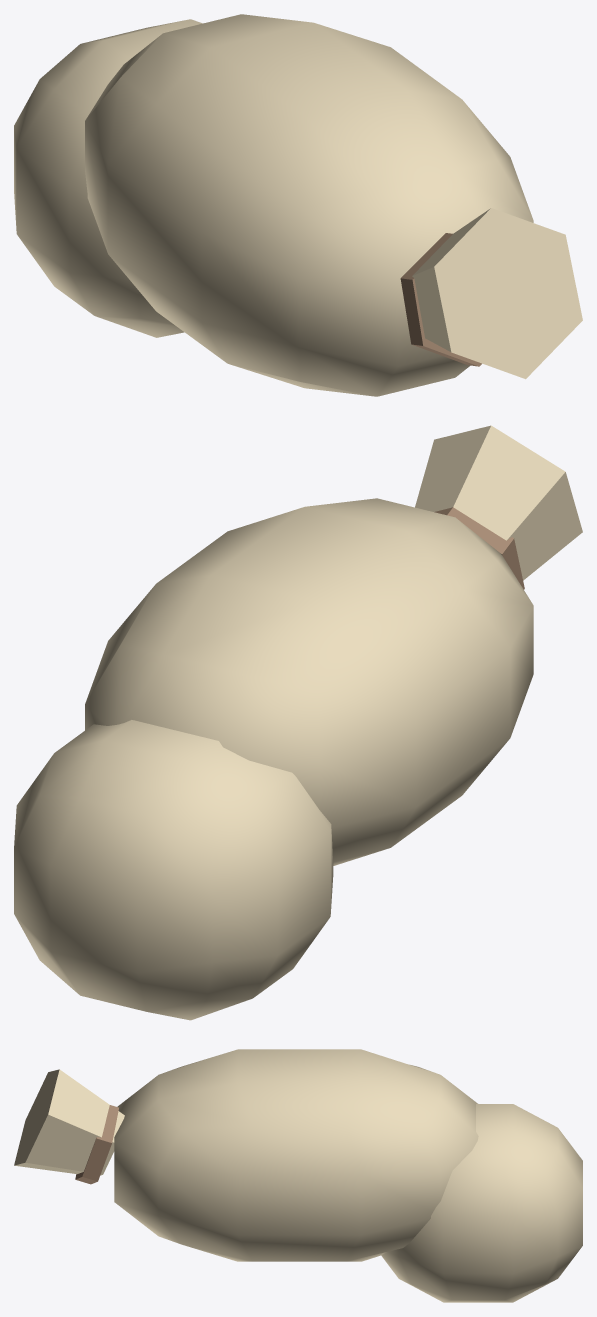
File: prop_carry_sack.glb
3 renders of one model, top to bottom at view 1: azimuth 30°, elevation 25°; view 2: azimuth 150°, elevation 25°; view 3: azimuth 270°, elevation 25°, orthographic. The views are drawn at different scales.
Visible parts, largest first — view 1: prop_carry_sack; view 2: prop_carry_sack; view 3: prop_carry_sack.
Part boxes in pixels (x1,y1,x2,y2): prop_carry_sack: (14, 14, 582, 396); prop_carry_sack: (14, 425, 582, 1020); prop_carry_sack: (14, 1049, 582, 1302).
Size of the model in its own units: 0.4468 by 0.4672 by 1.08.
